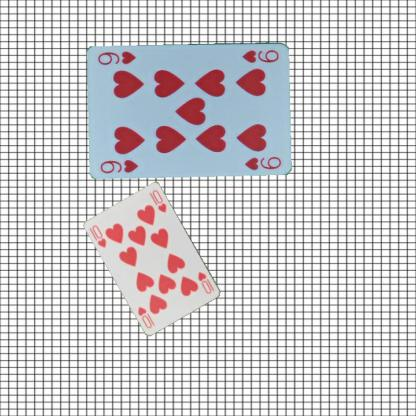10h: (196, 269, 216, 295), (90, 222, 108, 249)
9h: (98, 156, 140, 174), (240, 46, 280, 64)
